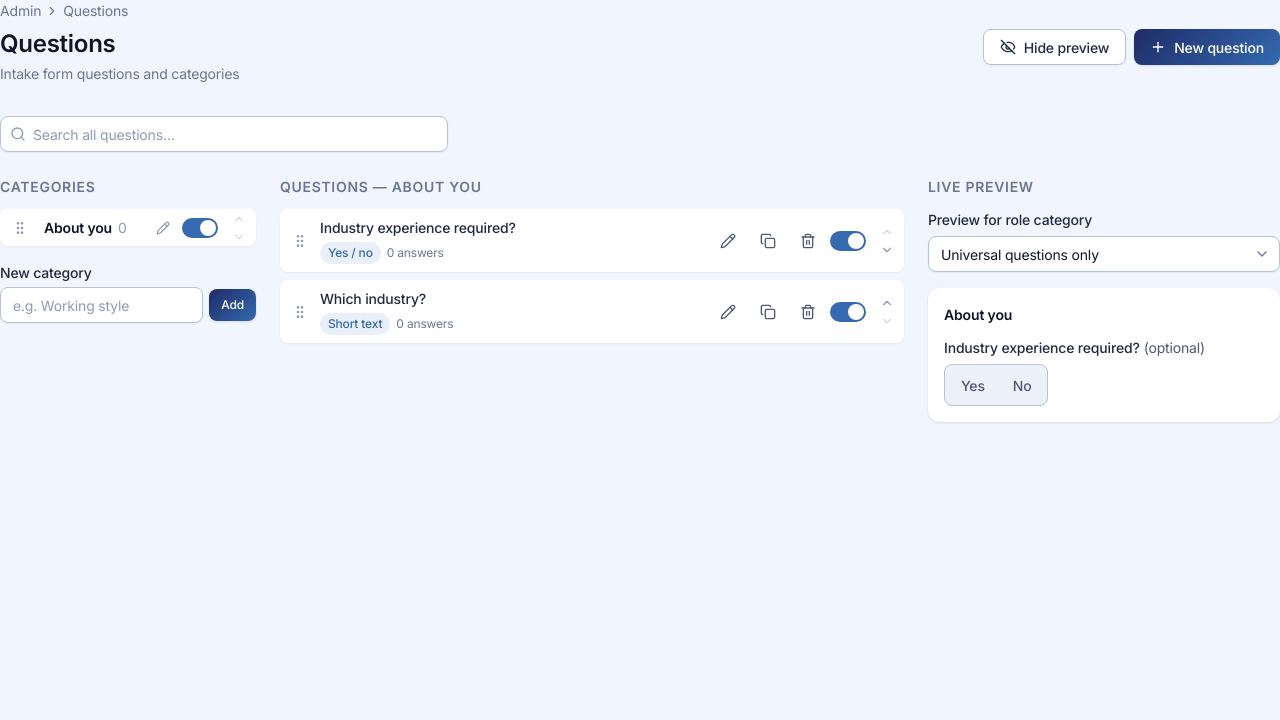
Scenario: deactivate warnings dialog › lists dependents after deactivation and can undo
Click the switch named "Active: Industry experience required?". click: (848, 240)
box: [830,230,866,250]
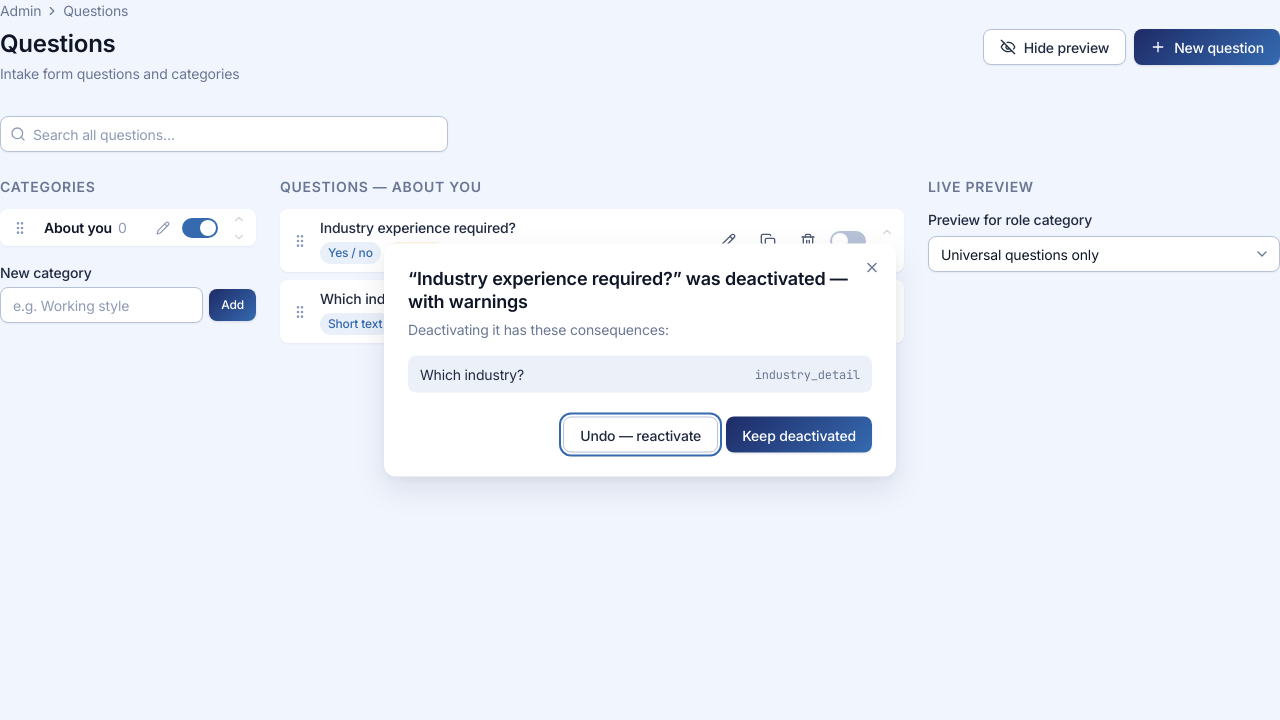
Expected: the dialog shows "“Industry experience required?” was deactivated — with warnings", [384,244,896,476]
Expected: the dialog shows "Which industry?", [420,366,524,382]
Expected: the dialog shows "industry_detail", [755,366,860,382]
Note: Undo path: reactivate straight from the dialog.
Click the button "Undo — reactivate". click: (641, 434)
box: [563,416,718,452]
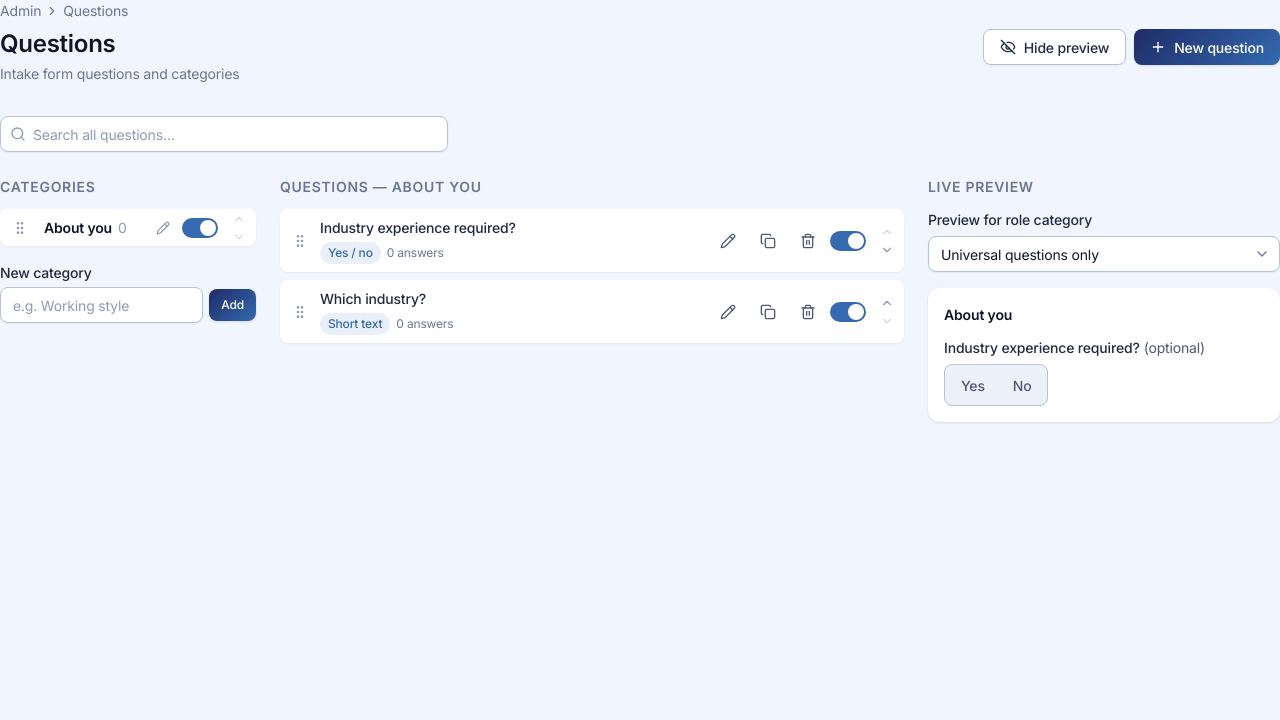
Expected: the dialog is gone
